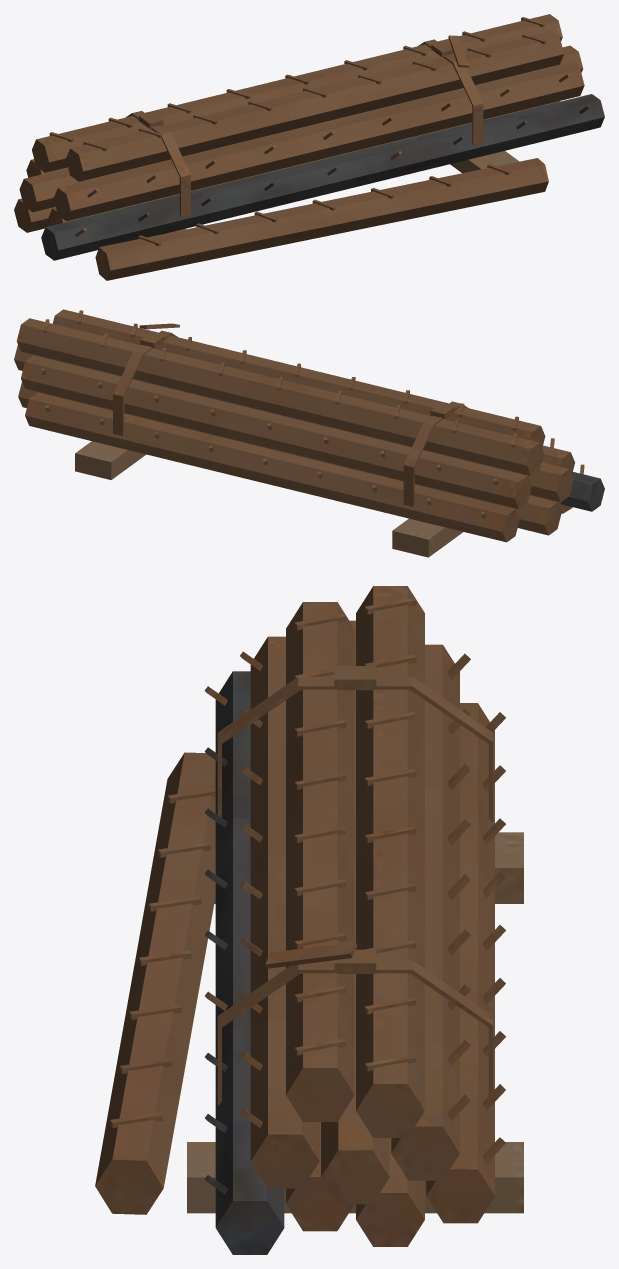
Rendered from CS07_rebar_bundle_v2.glb.
3 renders of one model, top to bottom at view 1: azimuth 30°, elevation 25°; view 2: azimuth 150°, elevation 25°; view 3: azimuth 270°, elevation 25°, orthographic. The views are drawn at different scales.
Visible parts, largest first — view 1: Timber bearer; view 2: Timber bearer; view 3: Timber bearer.
Part boxes in pixels (left/top/right/bottom): Timber bearer: left=14, top=14, right=604, bottom=280; Timber bearer: left=14, top=309, right=604, bottom=557; Timber bearer: left=95, top=586, right=523, bottom=1254.
Size of the model in its own units: 3 by 0.6348 by 1.02.
Materials: 3 (3 with a texture image).
